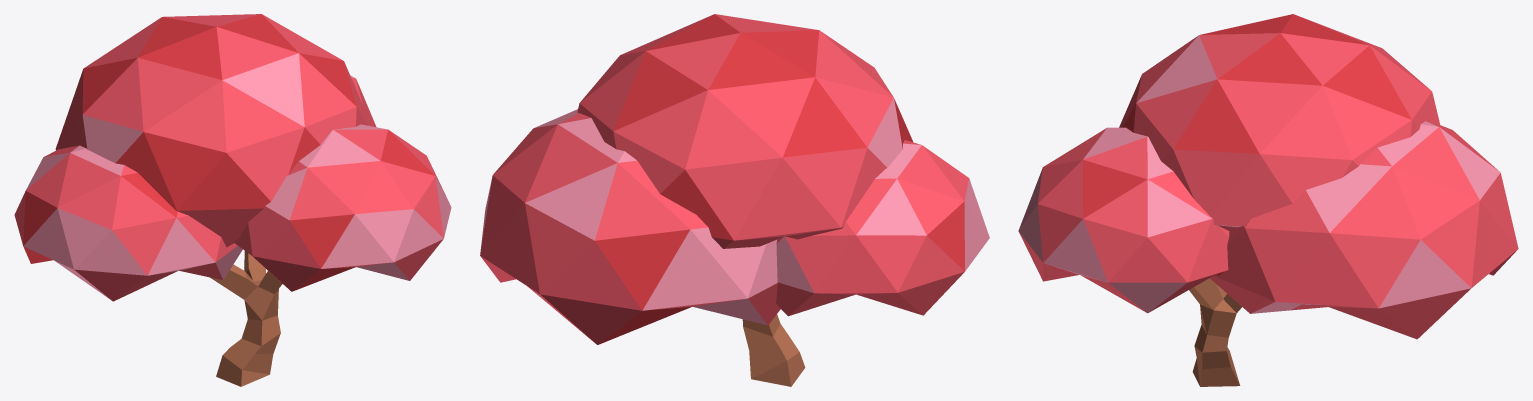
The model's file is Tree_11.fbx.
3 views of the same model, side by side, from view 1: azimuth 30°, elevation 25°; view 2: azimuth 150°, elevation 25°; view 3: azimuth 270°, elevation 25° (orthographic). The views are drawn at different scales.
Visible parts, largest first — view 1: Tree_11; view 2: Tree_11; view 3: Tree_11.
Boxes of the visible parts, <box> form: Tree_11: <box>14,14,451,386</box>; Tree_11: <box>480,14,989,386</box>; Tree_11: <box>1018,14,1518,386</box>.
Bounding box in the file's own units: 669 × 552 × 716.
